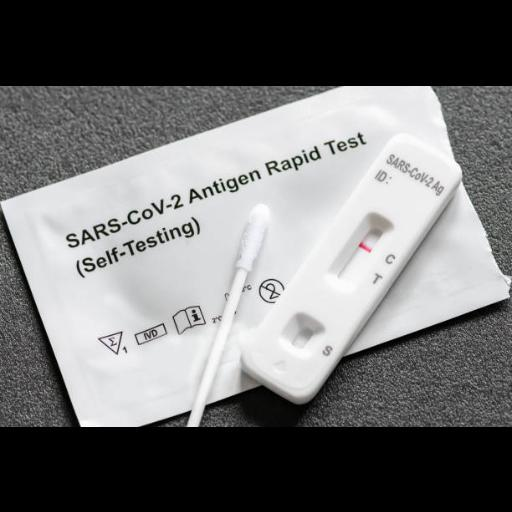Neg: (239, 130, 463, 401)
